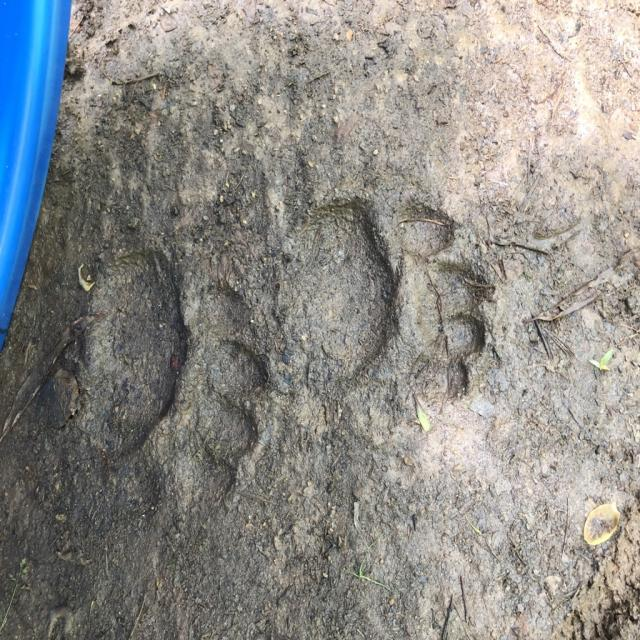bear: (92, 246, 267, 509), (291, 195, 484, 401)
